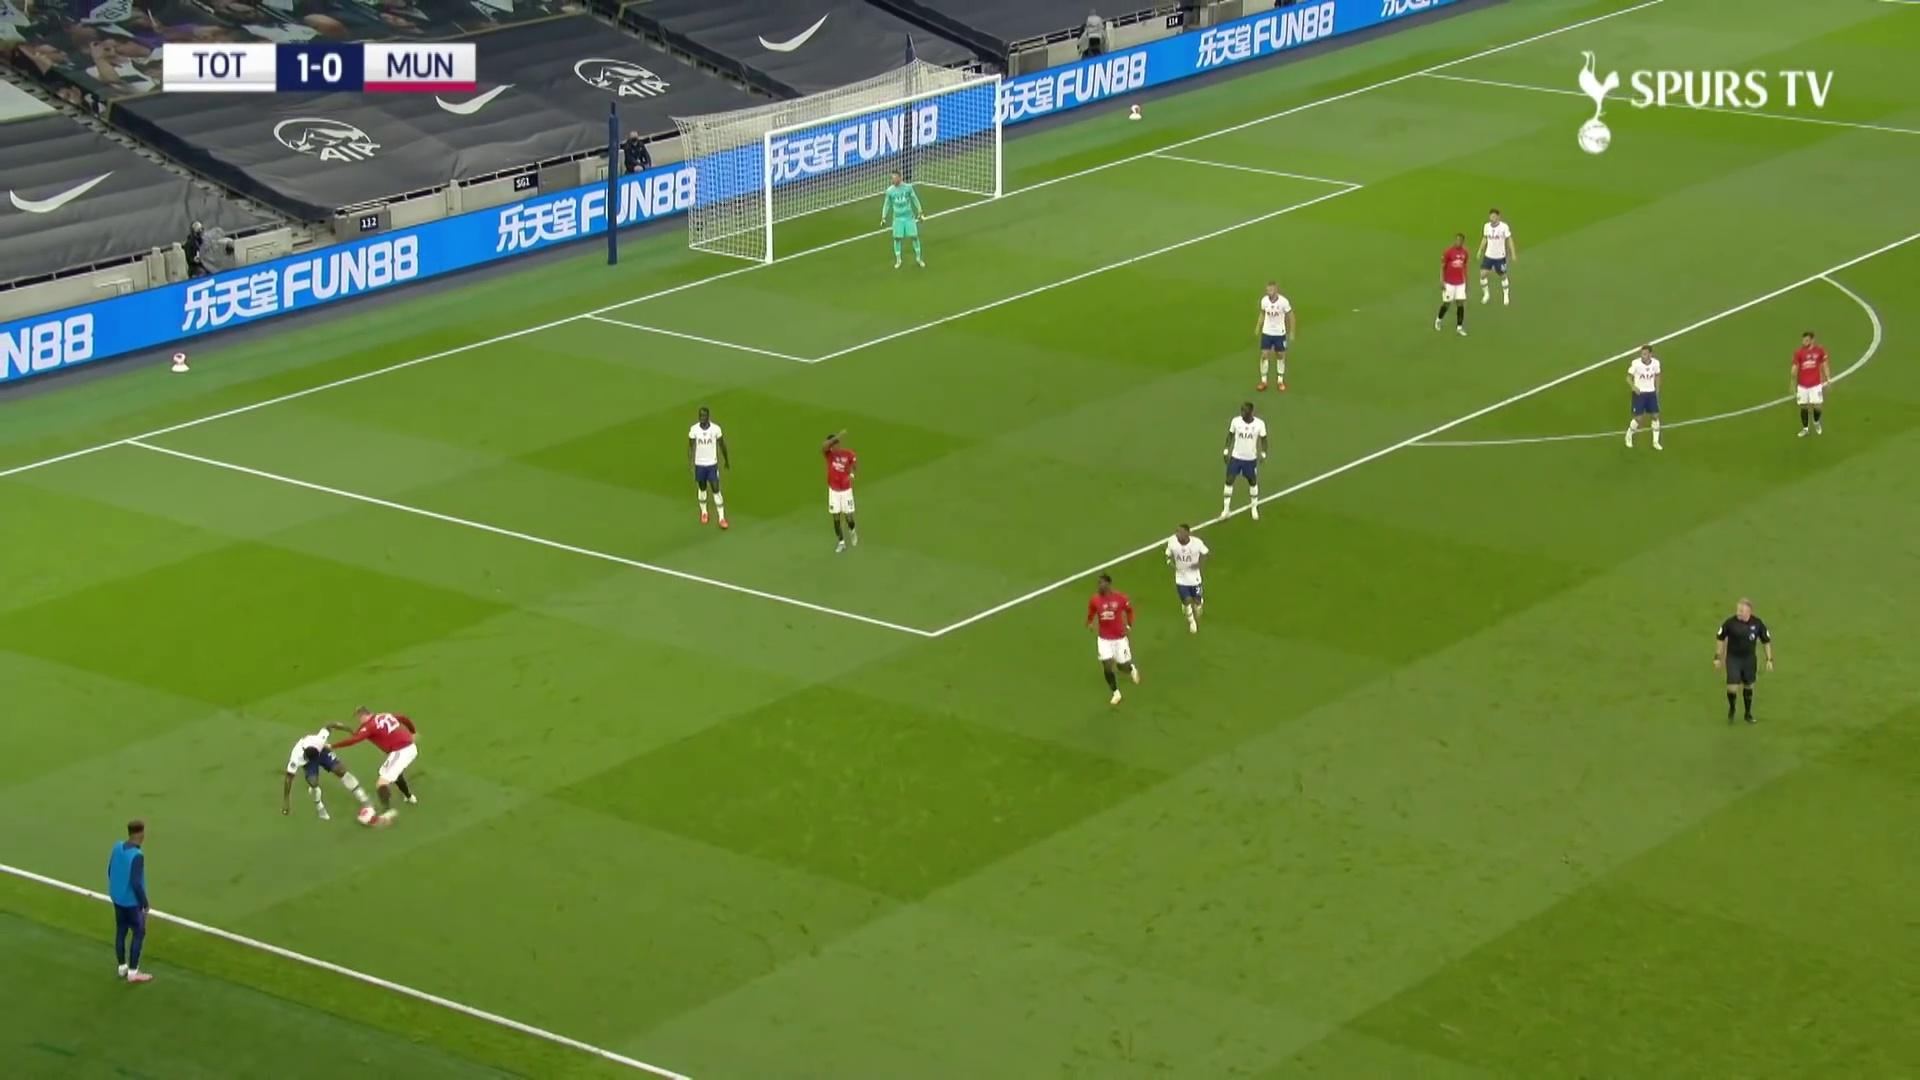ball: (356, 804, 378, 827)
